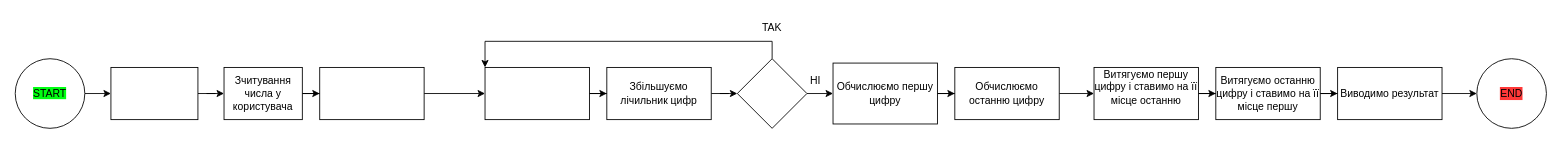
Some shapes in this 1562 by 144 pixel diagram are drawn without their labels. Each missing label, with the box of its shape:
Ділимо temp на 10, щоб відкинути останню цифру: (484, 67, 589, 120)
Його запис у змінну: (319, 67, 424, 120)
лічильник >0?: (736, 58, 807, 128)
Оголошення змінних: (110, 67, 198, 120)
